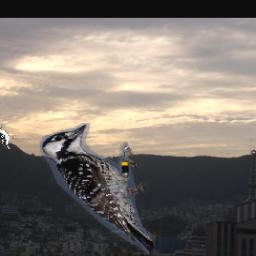Woodpecker: (40, 123, 155, 254), (0, 127, 17, 150)
